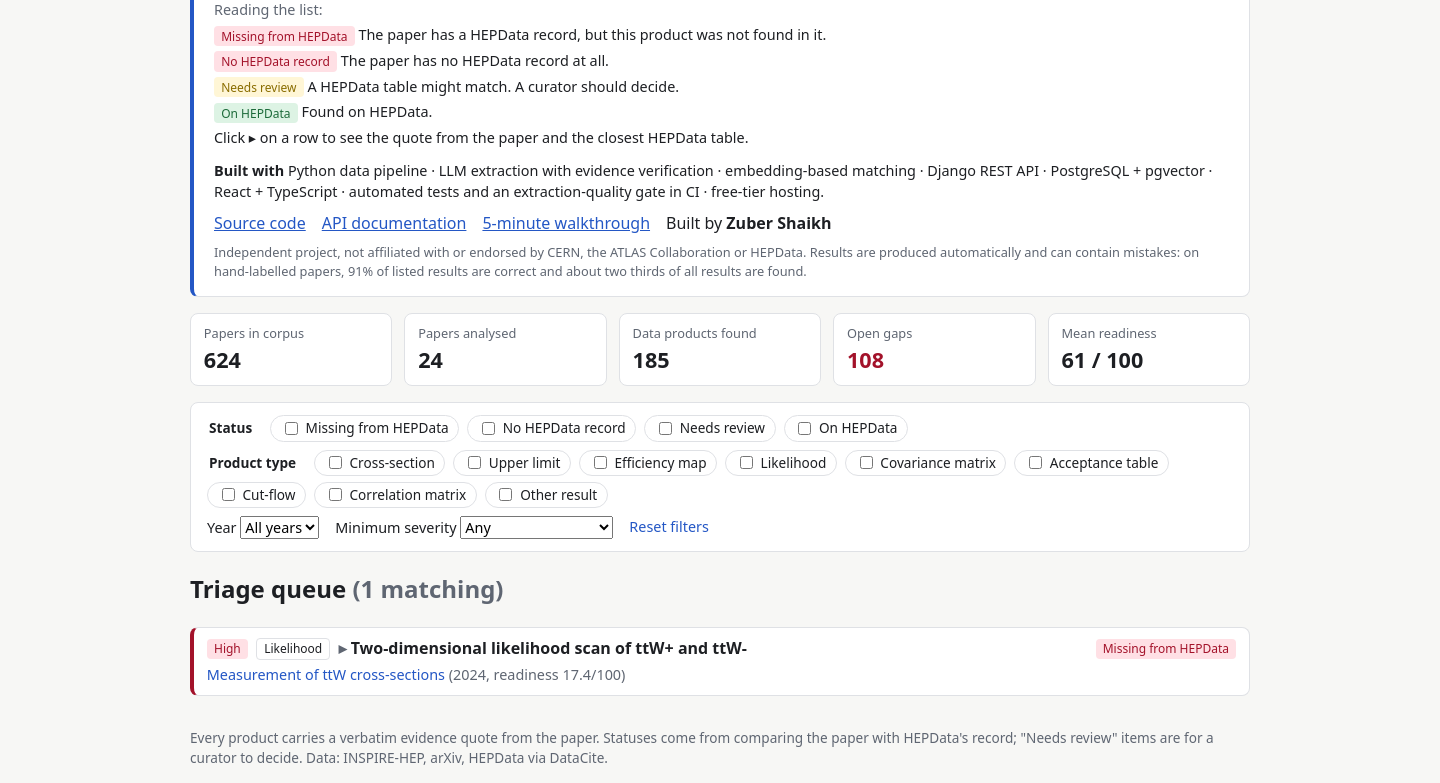
Test: paper panel › falls back to the list when the API does not send the HEPData tables yet
(page scrolled)
Click the button "Measurement of ttW cross-sections" at coordinates (326, 675), box [207,664,445,685]
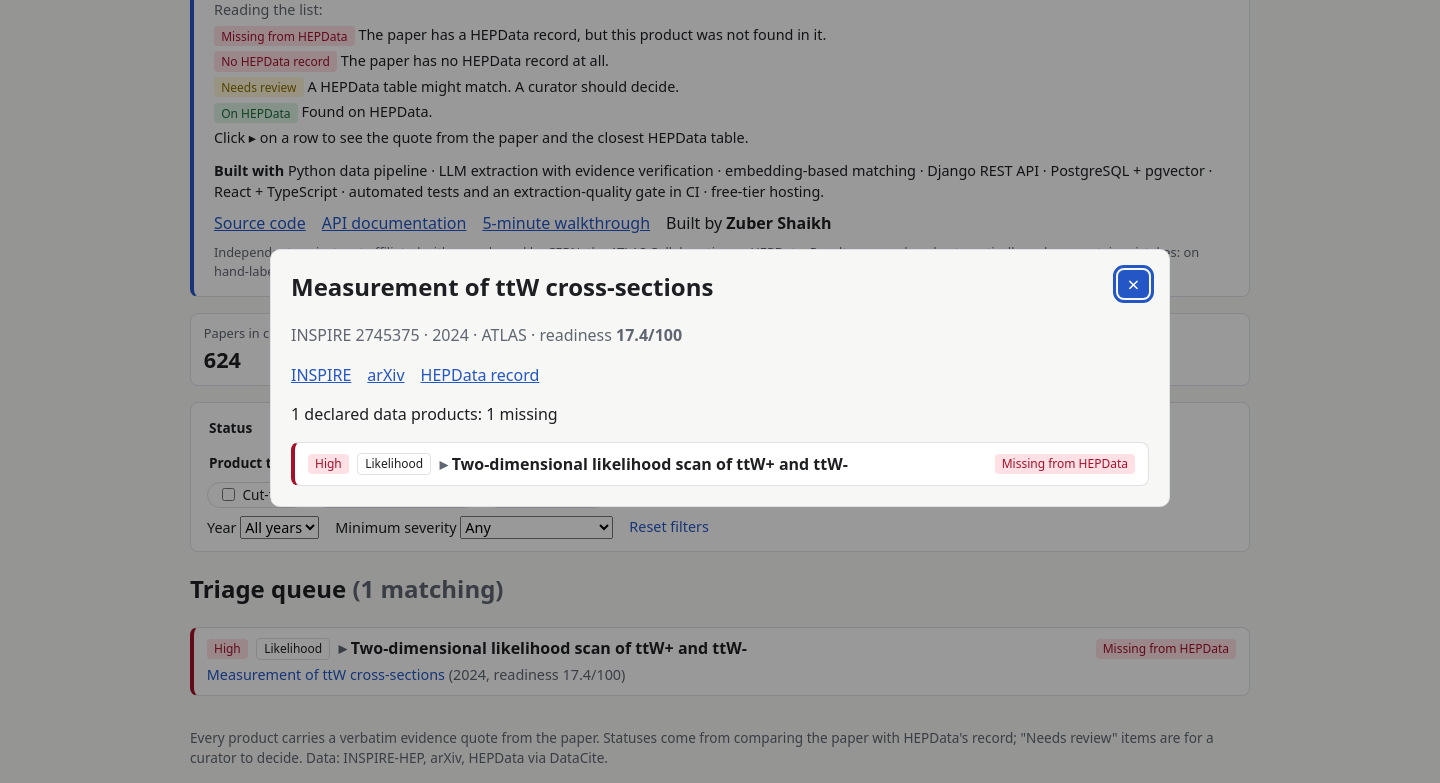
Expected: the text "1 declared data products: 1 missing" is shown, [291,403,558,425]
